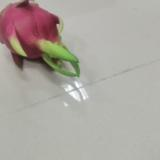pitaya: (1, 1, 81, 79)
